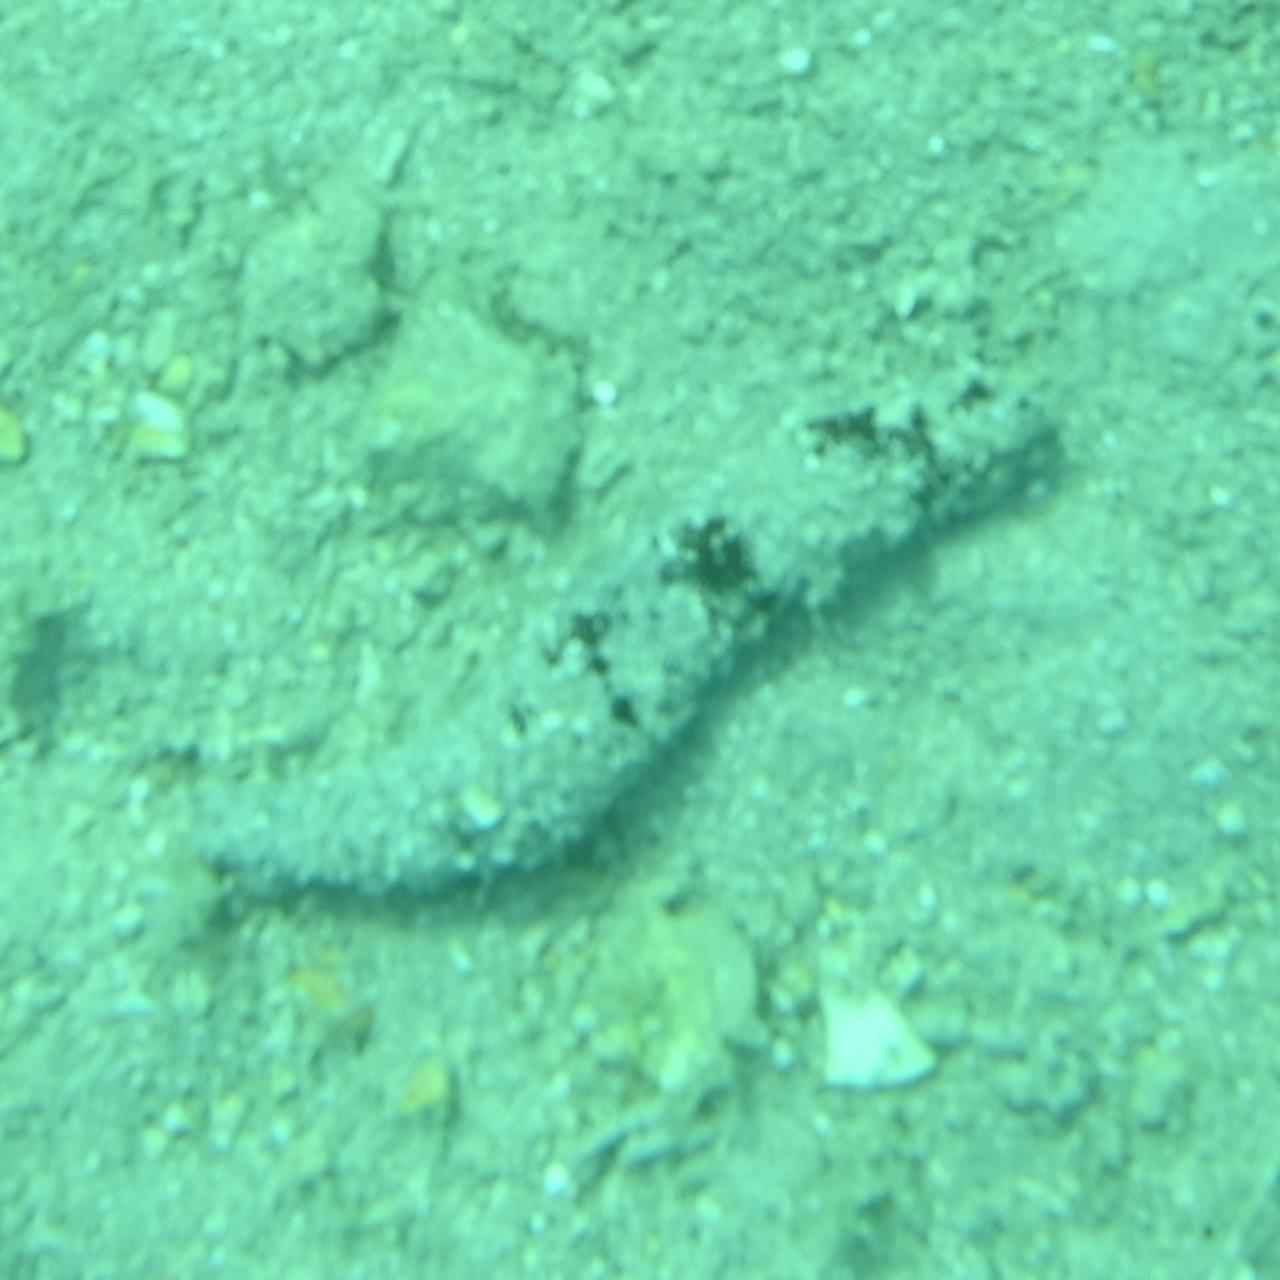Holothuria tubulosa: (172, 340, 1108, 940)
